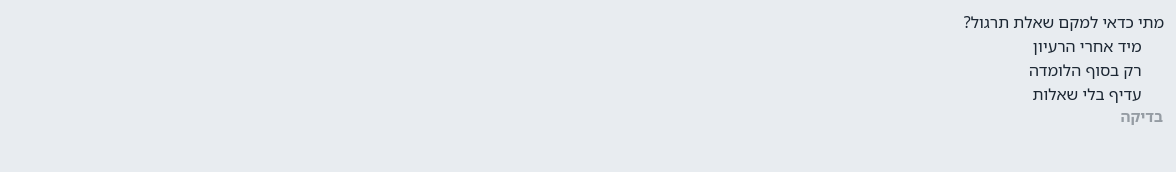
QuizRenderer — מענה › מציג משוב חיובי לתשובה נכונה
The image size is (1176, 172).
Click the radio button labelled "מיד אחרי הרעיון".
click(1087, 46)  # box x1=1033 y1=35 x2=1142 y2=57
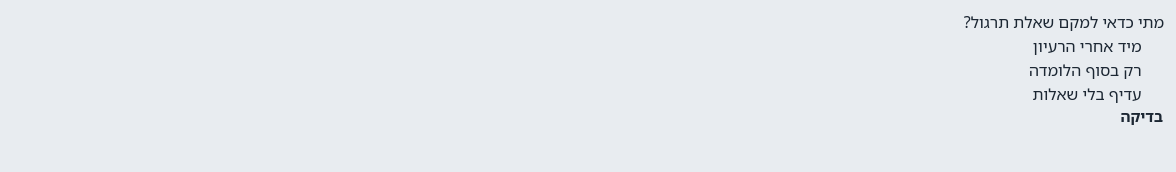
Click the button "בדיקה".
click(1142, 116)  # box x1=1119 y1=106 x2=1164 y2=126
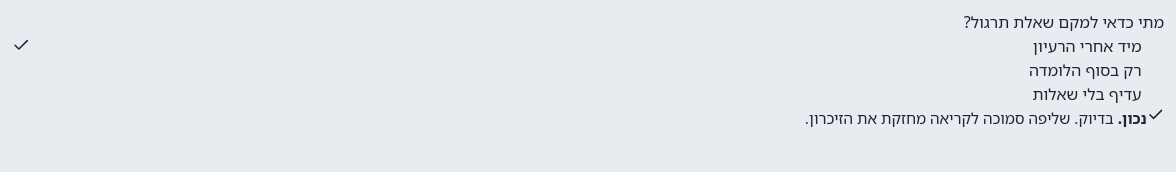
Result: the text "נכון. בדיוק. שליפה סמוכה לקריאה מחזקת את הזיכרון." is shown at x1=805 y1=106 x2=1146 y2=130
Result: the text "נכון." is shown at x1=1114 y1=108 x2=1146 y2=128
